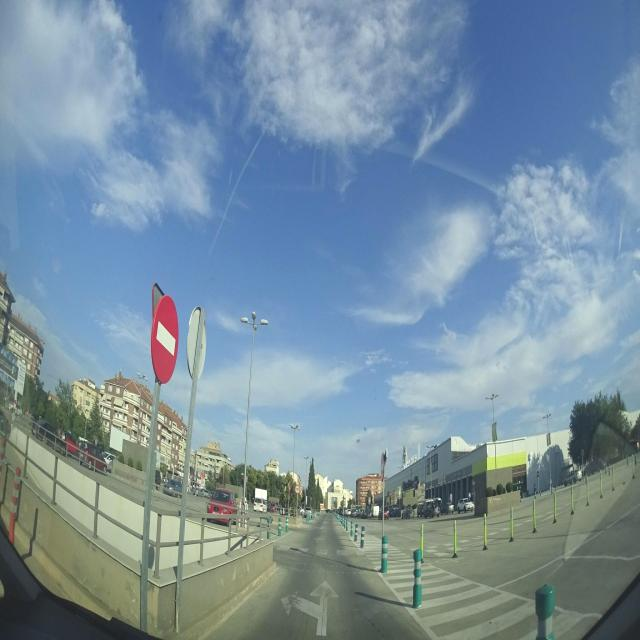car: (206, 489, 239, 525), (162, 478, 185, 498), (416, 500, 437, 519), (456, 496, 475, 514), (303, 507, 314, 519), (352, 505, 362, 518), (279, 505, 289, 516)
